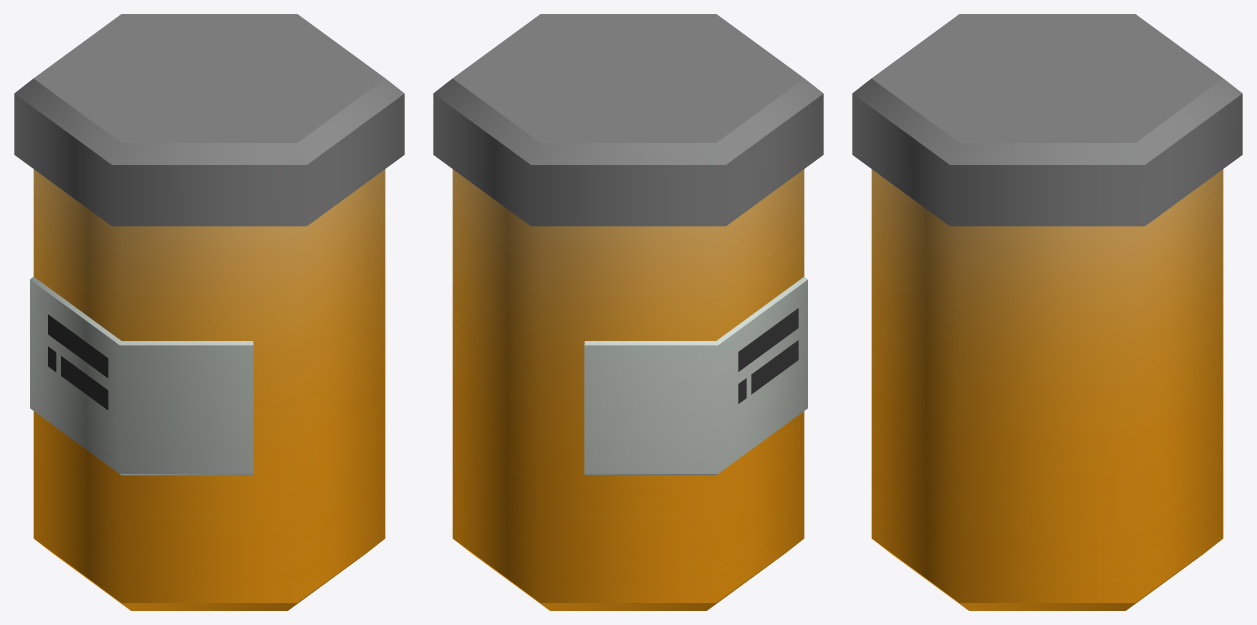
Rendered from Jar_3_G.fbx.
3 renders of one model, left to right at view 1: azimuth 30°, elevation 25°; view 2: azimuth 150°, elevation 25°; view 3: azimuth 270°, elevation 25°, orthographic.
Visible parts, largest first — view 1: Jar_3_G; view 2: Jar_3_G; view 3: Jar_3_G.
Boxes of the visible parts, box(x1,y1,x2,y2) form: Jar_3_G: box(14, 14, 404, 610); Jar_3_G: box(433, 14, 823, 610); Jar_3_G: box(852, 14, 1242, 610).
Bounding box in the file's own units: 17.99 × 27.9 × 20.77.
